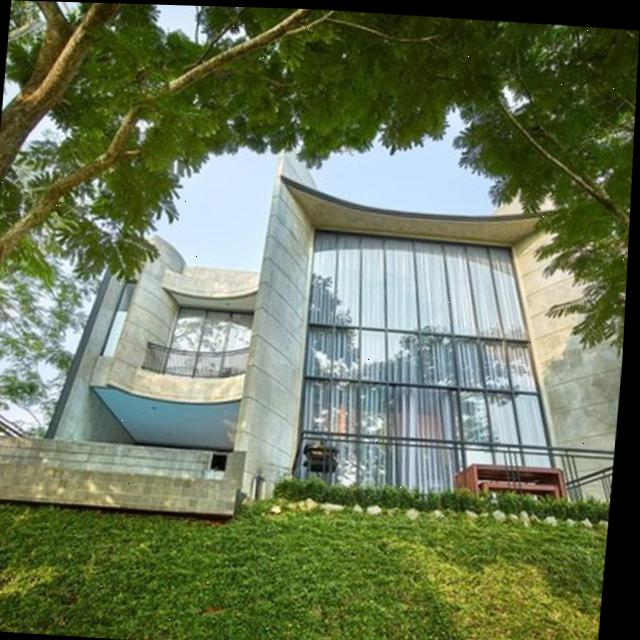building: (47, 136, 633, 511)
